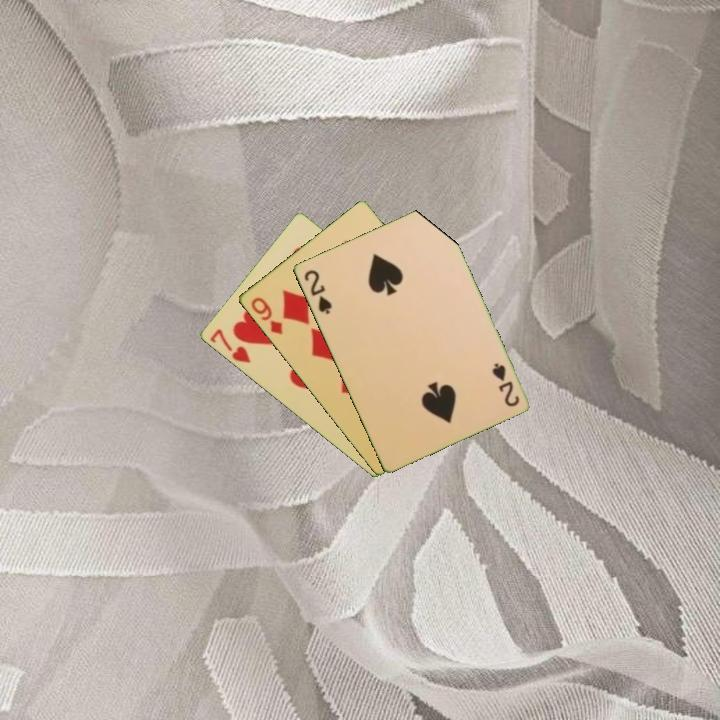2s: (300, 266, 335, 317), (488, 359, 522, 410)
7h: (206, 325, 253, 366)
9d: (247, 294, 285, 337)
